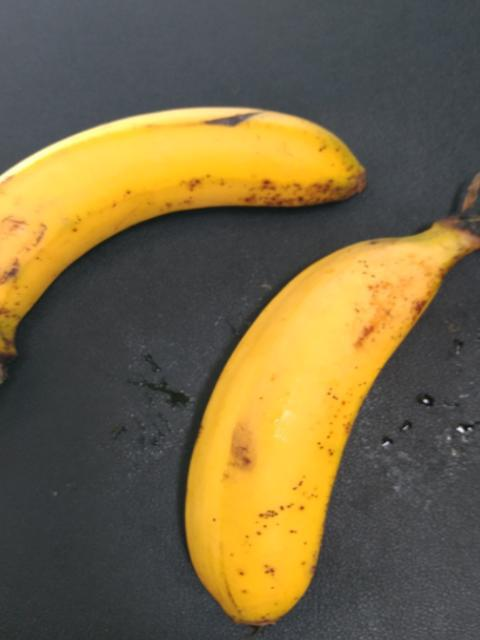ripe: (148, 233, 445, 639), (0, 88, 398, 353)
